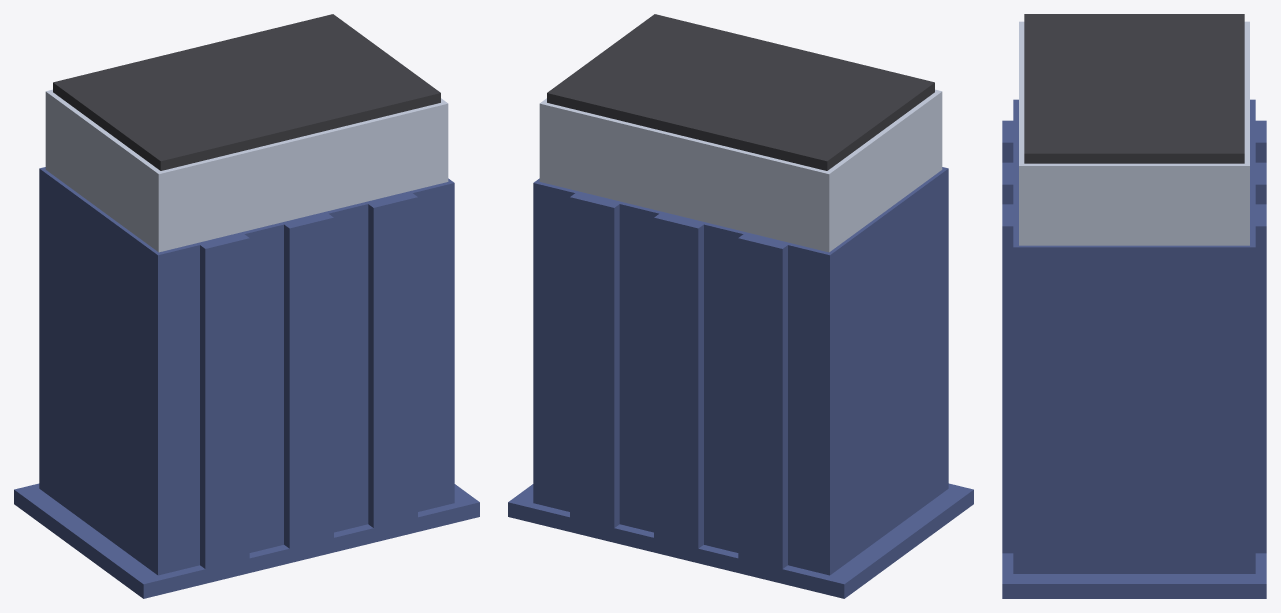
Rendered from hakama_saia.glb.
The picture shows the model from 3 angles, left to right: view 1: azimuth 30°, elevation 25°; view 2: azimuth 150°, elevation 25°; view 3: azimuth 270°, elevation 25°; orthographic projection. The views are drawn at different scales.
Parts seen in each view (by area): view 1: hakama_saia; view 2: hakama_saia; view 3: hakama_saia.
Boxes of the visible parts, bbox=[...] form: hakama_saia: bbox=[14, 14, 479, 598]; hakama_saia: bbox=[508, 14, 973, 598]; hakama_saia: bbox=[1002, 14, 1266, 598].
Bounding box in the file's own units: 0.72 × 0.865 × 0.48.
